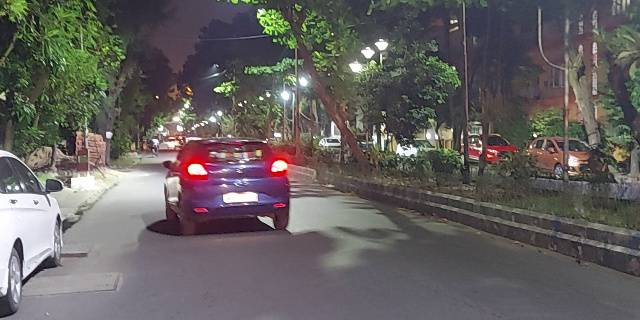Car: (163, 139, 289, 233)
